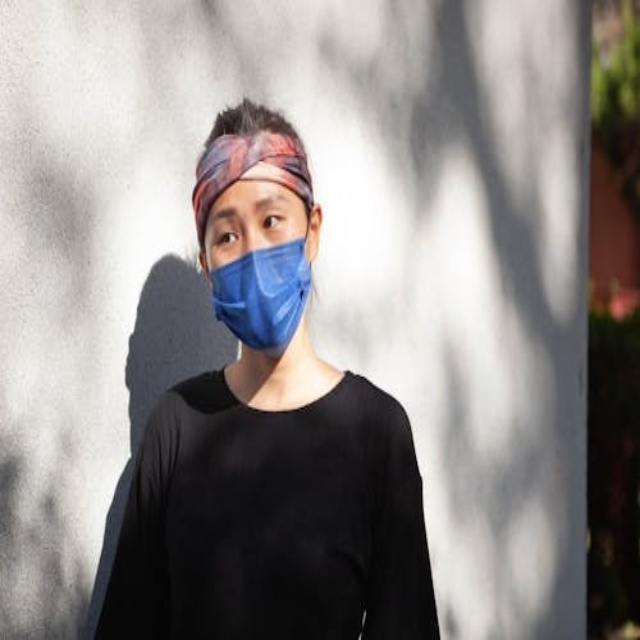Mascara: (208, 235, 312, 354)
Sin_gafas: (210, 200, 291, 250)
